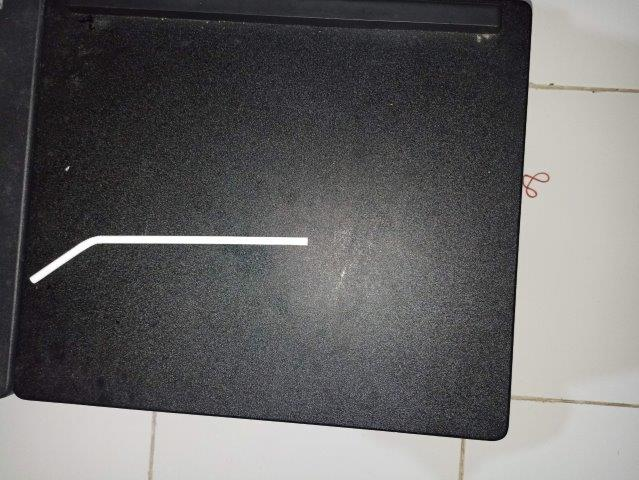karet: (522, 171, 550, 198)
sedotan: (29, 234, 308, 283)
